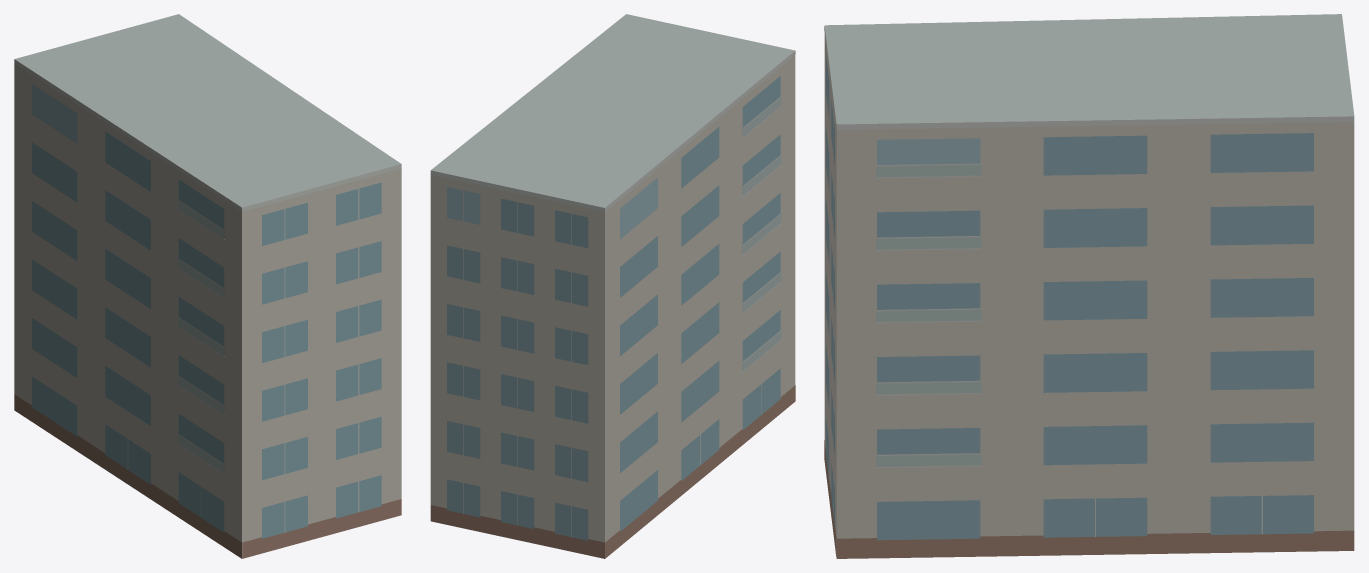
The model's file is survey-upis-32989713.glb.
3 renders of one model, left to right at view 1: azimuth 30°, elevation 25°; view 2: azimuth 150°, elevation 25°; view 3: azimuth 270°, elevation 25°, orthographic. The views are drawn at different scales.
Parts seen in each view (by area): view 1: survey-upis-32989713.tmp; view 2: survey-upis-32989713.tmp; view 3: survey-upis-32989713.tmp.
Part boxes in pixels (x1,y1,x2,y2): survey-upis-32989713.tmp: (14, 14, 401, 558); survey-upis-32989713.tmp: (430, 14, 795, 558); survey-upis-32989713.tmp: (824, 14, 1354, 558).
Bounding box in the file's own units: 10.58 × 19.39 × 21.44.
